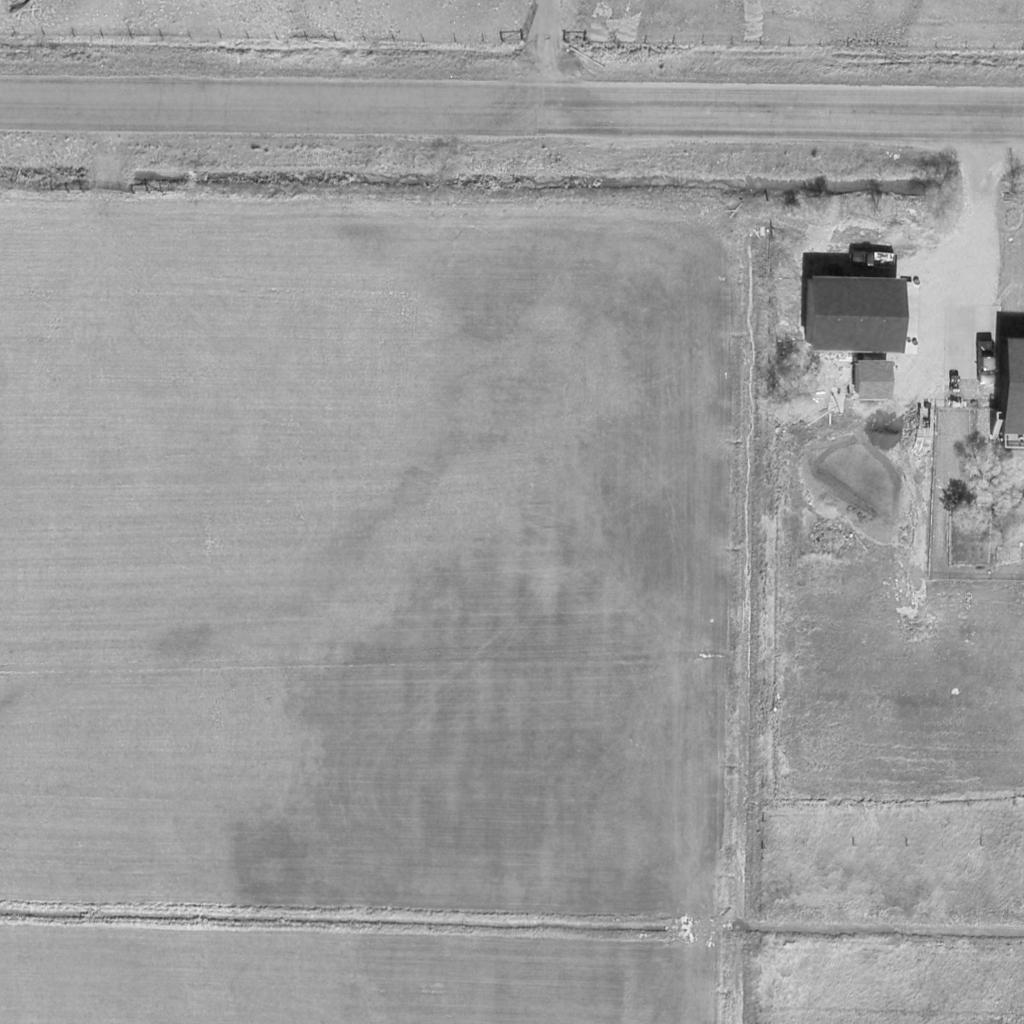vehicle: (846, 249, 900, 271), (977, 339, 995, 387)
